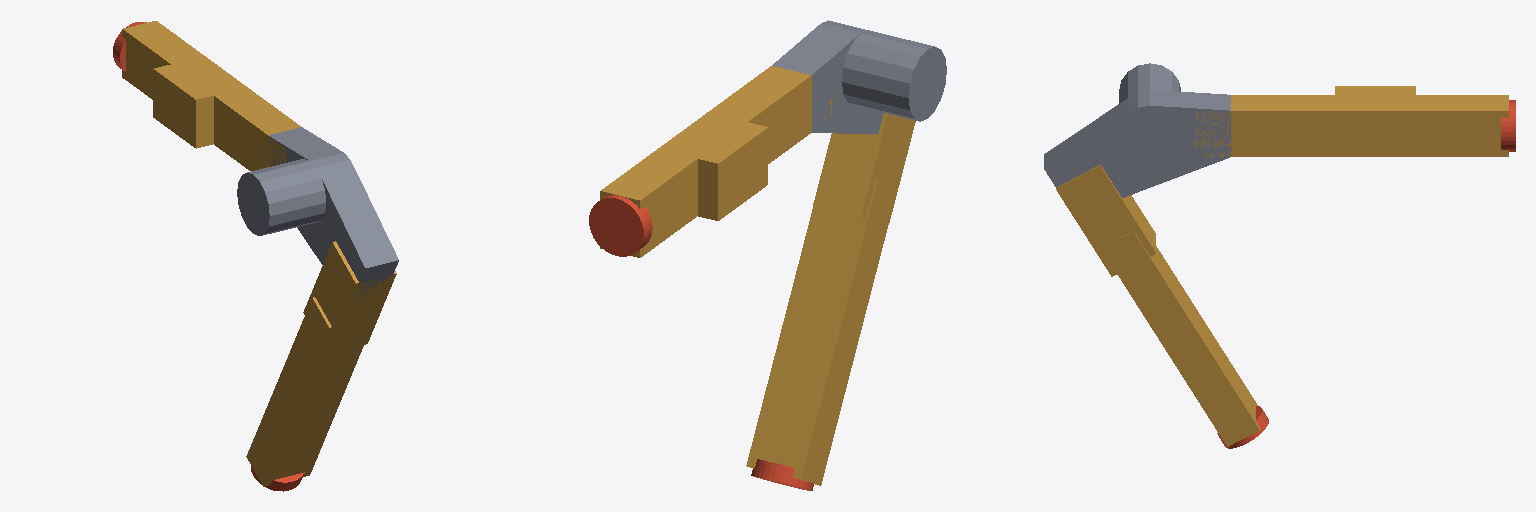
The robot description file, URDF, robot "g0046_c07":
<robot name="g0046_c07">
  <link name="palm">
    <visual name="palm_palm1">
      <origin xyz="0 0 0" rpy="0 0 0" />
      <geometry>
        <mesh filename="palm_palm1.obj" />
      </geometry>
      <material name="palm_palm1_mat">
        <color rgba="0.55 0.57 0.62 1" />
      </material>
    </visual>
    <collision>
      <origin xyz="0 0 0" rpy="0 0 0" />
      <geometry>
        <mesh filename="palm_palm1.obj" />
      </geometry>
    </collision>
    <visual name="palm_mount2">
      <origin xyz="0 0 0" rpy="0 0 0" />
      <geometry>
        <mesh filename="palm_mount2.obj" />
      </geometry>
      <material name="palm_mount2_mat">
        <color rgba="0.55 0.57 0.62 1" />
      </material>
    </visual>
    <collision>
      <origin xyz="0 0 0" rpy="0 0 0" />
      <geometry>
        <mesh filename="palm_mount2.obj" />
      </geometry>
    </collision>
    <visual name="palm_motor3">
      <origin xyz="0 -0.04375 -0.0335048095" rpy="1.57079633 0.523598776 -1.57079633" />
      <geometry>
        <box size="0.029 0.034 0.02" />
      </geometry>
      <material name="palm_motor3_mat">
        <color rgba="0.15 0.15 0.17 1" />
      </material>
    </visual>
    <collision>
      <origin xyz="0 -0.04375 -0.0335048095" rpy="1.57079633 0.523598776 -1.57079633" />
      <geometry>
        <box size="0.029 0.034 0.02" />
      </geometry>
    </collision>
    <visual name="palm_motor4">
      <origin xyz="0 0.0325 -4.5924255e-19" rpy="-3.14159265 1.57079633 0" />
      <geometry>
        <box size="0.029 0.034 0.02" />
      </geometry>
      <material name="palm_motor4_mat">
        <color rgba="0.15 0.15 0.17 1" />
      </material>
    </visual>
    <collision>
      <origin xyz="0 0.0325 -4.5924255e-19" rpy="-3.14159265 1.57079633 0" />
      <geometry>
        <box size="0.029 0.034 0.02" />
      </geometry>
    </collision>
    <inertial>
      <origin xyz="0 -0.00572055053 -0.0146143539" rpy="1.57079633 -0.406555475 1.57079633" />
      <mass value="0.227863369" />
      <inertia ixx="5.40928382e-05" ixy="0" ixz="0" iyy="0.000246833375" iyz="0" izz="0.00027905133" />
    </inertial>
  </link>
  <link name="f0_link0">
    <visual name="f0_link0_link1">
      <origin xyz="0.02375 0 0" rpy="0 4.06369831e-17 0" />
      <geometry>
        <box size="0.0715 0.029 0.033" />
      </geometry>
      <material name="f0_link0_link1_mat">
        <color rgba="0.80 0.62 0.30 1" />
      </material>
    </visual>
    <collision>
      <origin xyz="0.02375 0 0" rpy="0 4.06369831e-17 0" />
      <geometry>
        <box size="0.0715 0.029 0.033" />
      </geometry>
    </collision>
    <inertial>
      <origin xyz="0.02375 0 0" rpy="0 0 0" />
      <mass value="0.119744625" />
      <inertia ixx="1.92589272e-05" ixy="0" ixz="0" iyy="6.18805296e-05" iyz="0" izz="5.94058074e-05" />
    </inertial>
  </link>
  <link name="f0_link1">
    <visual name="f0_link1_link1">
      <origin xyz="0.02875 0 -6.9388939e-18" rpy="0 4.06369831e-17 0" />
      <geometry>
        <box size="0.0815 0.033 0.024" />
      </geometry>
      <material name="f0_link1_link1_mat">
        <color rgba="0.80 0.62 0.30 1" />
      </material>
    </visual>
    <collision>
      <origin xyz="0.02875 0 -6.9388939e-18" rpy="0 4.06369831e-17 0" />
      <geometry>
        <box size="0.0815 0.033 0.024" />
      </geometry>
    </collision>
    <inertial>
      <origin xyz="0.02875 0 0" rpy="0 0 0" />
      <mass value="0.112959" />
      <inertia ixx="1.56730613e-05" ixy="0" ixz="0" iyy="6.79471918e-05" iyz="0" izz="7.27761891e-05" />
    </inertial>
  </link>
  <link name="f0_link2">
    <visual name="f0_link2_link1">
      <origin xyz="0.03875 0 6.9388939e-18" rpy="0 4.06369831e-17 0" />
      <geometry>
        <box size="0.1015 0.033 0.024" />
      </geometry>
      <material name="f0_link2_link1_mat">
        <color rgba="0.80 0.62 0.30 1" />
      </material>
    </visual>
    <collision>
      <origin xyz="0.03875 0 6.9388939e-18" rpy="0 4.06369831e-17 0" />
      <geometry>
        <box size="0.1015 0.033 0.024" />
      </geometry>
    </collision>
    <inertial>
      <origin xyz="0.03875 0 0" rpy="0 0 0" />
      <mass value="0.140679" />
      <inertia ixx="1.95192113e-05" ixy="0" ixz="0" iyy="0.000127528444" iyz="0" izz="0.000133542472" />
    </inertial>
  </link>
  <link name="f0_link3">
    <visual name="f0_link3_link1">
      <origin xyz="0.009 0 3.46944695e-18" rpy="-1.57079633 -0 -1.57079633" />
      <geometry>
        <cylinder radius="0.0165" length="0.009" />
      </geometry>
      <material name="f0_link3_link1_mat">
        <color rgba="0.85 0.35 0.25 1" />
      </material>
    </visual>
    <collision>
      <origin xyz="0.009 0 3.46944695e-18" rpy="-1.57079633 -0 -1.57079633" />
      <geometry>
        <cylinder radius="0.0165" length="0.009" />
      </geometry>
    </collision>
    <inertial>
      <origin xyz="0.009 0 0" rpy="0 0 0" />
      <mass value="0.046399949" />
      <inertia ixx="5.41970115e-06" ixy="0" ixz="0" iyy="7.09430898e-06" iyz="0" izz="7.09430898e-06" />
    </inertial>
  </link>
  <link name="f1_link0">
    <visual name="f1_link0_link1">
      <origin xyz="0.04375 0 0" rpy="0 -0 0" />
      <geometry>
        <box size="0.1115 0.024 0.033" />
      </geometry>
      <material name="f1_link0_link1_mat">
        <color rgba="0.80 0.62 0.30 1" />
      </material>
    </visual>
    <collision>
      <origin xyz="0.04375 0 0" rpy="0 -0 0" />
      <geometry>
        <box size="0.1115 0.024 0.033" />
      </geometry>
    </collision>
    <inertial>
      <origin xyz="0.04375 0 0" rpy="0 0 0" />
      <mass value="0.154539" />
      <inertia ixx="2.14422863e-05" ixy="0" ixz="0" iyy="0.000174130038" iyz="0" izz="0.000167523496" />
    </inertial>
  </link>
  <link name="f1_link1">
    <visual name="f1_link1_link1">
      <origin xyz="0.014 -0.00625 -7.70371978e-34" rpy="0 -0 0" />
      <geometry>
        <box size="0.052 0.0365 0.033" />
      </geometry>
      <material name="f1_link1_link1_mat">
        <color rgba="0.80 0.62 0.30 1" />
      </material>
    </visual>
    <collision>
      <origin xyz="0.014 -0.00625 -7.70371978e-34" rpy="0 -0 0" />
      <geometry>
        <box size="0.052 0.0365 0.033" />
      </geometry>
    </collision>
    <inertial>
      <origin xyz="0.014 -0.00625 0" rpy="0 0 0" />
      <mass value="0.1096095" />
      <inertia ixx="2.21160002e-05" ixy="0" ixz="0" iyy="3.46457361e-05" iyz="0" izz="3.6867612e-05" />
    </inertial>
  </link>
  <link name="f1_link2">
    <visual name="f1_link2_link1">
      <origin xyz="0.02875 0 0" rpy="0 -0 0" />
      <geometry>
        <box size="0.0815 0.024 0.033" />
      </geometry>
      <material name="f1_link2_link1_mat">
        <color rgba="0.80 0.62 0.30 1" />
      </material>
    </visual>
    <collision>
      <origin xyz="0.02875 0 0" rpy="0 -0 0" />
      <geometry>
        <box size="0.0815 0.024 0.033" />
      </geometry>
    </collision>
    <inertial>
      <origin xyz="0.02875 0 0" rpy="0 0 0" />
      <mass value="0.112959" />
      <inertia ixx="1.56730613e-05" ixy="0" ixz="0" iyy="7.27761891e-05" iyz="0" izz="6.79471918e-05" />
    </inertial>
  </link>
  <link name="f1_link3">
    <visual name="f1_link3_link1">
      <origin xyz="0.009 0 1.54074396e-33" rpy="-1.57079633 -0 -1.57079633" />
      <geometry>
        <cylinder radius="0.0165" length="0.009" />
      </geometry>
      <material name="f1_link3_link1_mat">
        <color rgba="0.85 0.35 0.25 1" />
      </material>
    </visual>
    <collision>
      <origin xyz="0.009 0 1.54074396e-33" rpy="-1.57079633 -0 -1.57079633" />
      <geometry>
        <cylinder radius="0.0165" length="0.009" />
      </geometry>
    </collision>
    <inertial>
      <origin xyz="0.009 0 0" rpy="0 0 0" />
      <mass value="0.046399949" />
      <inertia ixx="5.41970115e-06" ixy="0" ixz="0" iyy="7.09430898e-06" iyz="0" izz="7.09430898e-06" />
    </inertial>
  </link>
  <joint name="f0_j0" type="revolute">
    <parent link="palm" />
    <child link="f0_link0" />
    <origin xyz="0 -0.04 -0.04" rpy="3.14159265 1.04719755 1.57079633" />
    <axis xyz="0 0 1" />
    <limit effort="0.5" lower="-0.523598776" upper="1.57079633" velocity="5" />
    <dynamics damping="0.0775033" friction="0" />
  </joint>
  <joint name="f0_j1" type="revolute">
    <parent link="f0_link0" />
    <child link="f0_link1" />
    <origin xyz="0.05 0 0" rpy="0 0 0" />
    <axis xyz="0 1 6.123234e-17" />
    <limit effort="0.5" lower="-0.523598776" upper="0.523598776" velocity="5" />
    <dynamics damping="0.0775033" friction="0" />
  </joint>
  <joint name="f0_j2" type="revolute">
    <parent link="f0_link1" />
    <child link="f0_link2" />
    <origin xyz="0.06 0 0" rpy="0 0 0" />
    <axis xyz="0 1 6.123234e-17" />
    <limit effort="0.5" lower="-0.523598776" upper="0.523598776" velocity="5" />
    <dynamics damping="0.0775033" friction="0" />
  </joint>
  <joint name="f0_j3" type="revolute">
    <parent link="f0_link2" />
    <child link="f0_link3" />
    <origin xyz="0.08 0 0" rpy="0 0 0" />
    <axis xyz="0 1 6.123234e-17" />
    <limit effort="0.5" lower="-0.523598776" upper="0.523598776" velocity="5" />
    <dynamics damping="0.0775033" friction="0" />
  </joint>
  <joint name="f1_j0" type="revolute">
    <parent link="palm" />
    <child link="f1_link0" />
    <origin xyz="0 0.04 0" rpy="-3.14159265 -6.123234e-17 1.57079633" />
    <axis xyz="0 0 1" />
    <limit effort="0.5" lower="-0.523598776" upper="1.57079633" velocity="5" />
    <dynamics damping="0.0775033" friction="0" />
  </joint>
  <joint name="f1_j1" type="revolute">
    <parent link="f1_link0" />
    <child link="f1_link1" />
    <origin xyz="0.09 0 0" rpy="0 0 0" />
    <axis xyz="0 0 1" />
    <limit effort="0.5" lower="-0.523598776" upper="1.57079633" velocity="5" />
    <dynamics damping="0.0775033" friction="0" />
  </joint>
  <joint name="f1_j2" type="revolute">
    <parent link="f1_link1" />
    <child link="f1_link2" />
    <origin xyz="0.03 0 0" rpy="0 0 0" />
    <axis xyz="0 0 1" />
    <limit effort="0.5" lower="-0.523598776" upper="1.57079633" velocity="5" />
    <dynamics damping="0.0775033" friction="0" />
  </joint>
  <joint name="f1_j3" type="revolute">
    <parent link="f1_link2" />
    <child link="f1_link3" />
    <origin xyz="0.06 0 0" rpy="0 0 0" />
    <axis xyz="0 0 1" />
    <limit effort="0.5" lower="-0.523598776" upper="1.57079633" velocity="5" />
    <dynamics damping="0.0775033" friction="0" />
  </joint>
</robot>

--- Render facts (derived) ---
Views: 3 orthographic renders of the robot side by side, from view 1: azimuth 30°, elevation 25°; view 2: azimuth 150°, elevation 25°; view 3: azimuth 270°, elevation 25°.
Robot: g0046_c07 — 9 links, 8 joints (8 revolute); root link palm; default pose: every joint at zero.
Links seen in each view (by area): view 1: palm, f0_link2, f0_link0, f1_link0, f1_link1, f0_link1, f1_link2; view 2: palm, f0_link2, f0_link1, f0_link0, f1_link2, f1_link0, f1_link1, f1_link3, f0_link3; view 3: palm, f1_link0, f0_link2, f1_link2, f0_link0, f0_link1, f1_link1, f1_link3.
Boxes of the visible links, x1,y1,x2,y2 form: palm: [237, 127, 398, 300]; f0_link2: [246, 359, 350, 486]; f0_link0: [303, 241, 396, 353]; f1_link0: [211, 75, 300, 170]; f1_link1: [153, 56, 246, 148]; f0_link1: [279, 297, 363, 406]; f1_link2: [122, 21, 221, 99]; palm: [772, 20, 946, 133]; f0_link2: [746, 278, 868, 485]; f0_link1: [785, 178, 898, 336]; f0_link0: [813, 113, 915, 222]; f1_link2: [600, 134, 717, 257]; f1_link0: [687, 66, 833, 163]; f1_link1: [661, 113, 767, 220]; f1_link3: [589, 195, 652, 256]; f0_link3: [751, 459, 813, 490]; palm: [1044, 63, 1230, 197]; f1_link0: [1194, 95, 1367, 156]; f0_link2: [1152, 285, 1259, 446]; f1_link2: [1382, 95, 1508, 156]; f0_link0: [1056, 164, 1155, 276]; f0_link1: [1101, 231, 1196, 348]; f1_link1: [1335, 86, 1415, 156]; f1_link3: [1501, 100, 1515, 151].
Bounding box of the posed robot: 0.0685 × 0.301 × 0.2445 m (x, y, z).
Meshes: 2 distinct files referenced, 2 mesh visuals loaded (2 OBJ).
